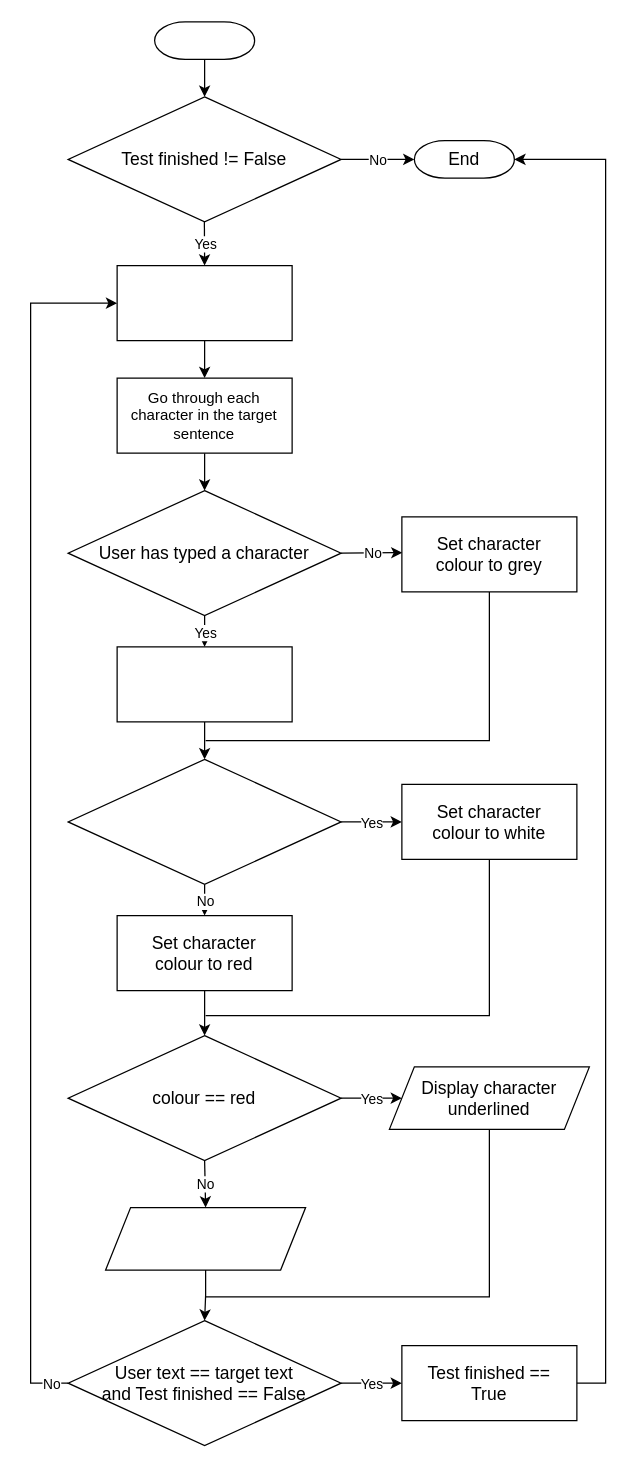
The diagram is 638 pixels wide and 1468 high, and some of its shapes have lost their labels. Here are the shapes that lost their labels. From the top down, the centre of each, then its label:
the point at 204,40: Start
the point at 204,302: Wrap target sentence
the point at 204,684: Get current character typed at same position as target character
the point at 204,821: User's character == target sentence character
the point at 205,1238: Display character normally
